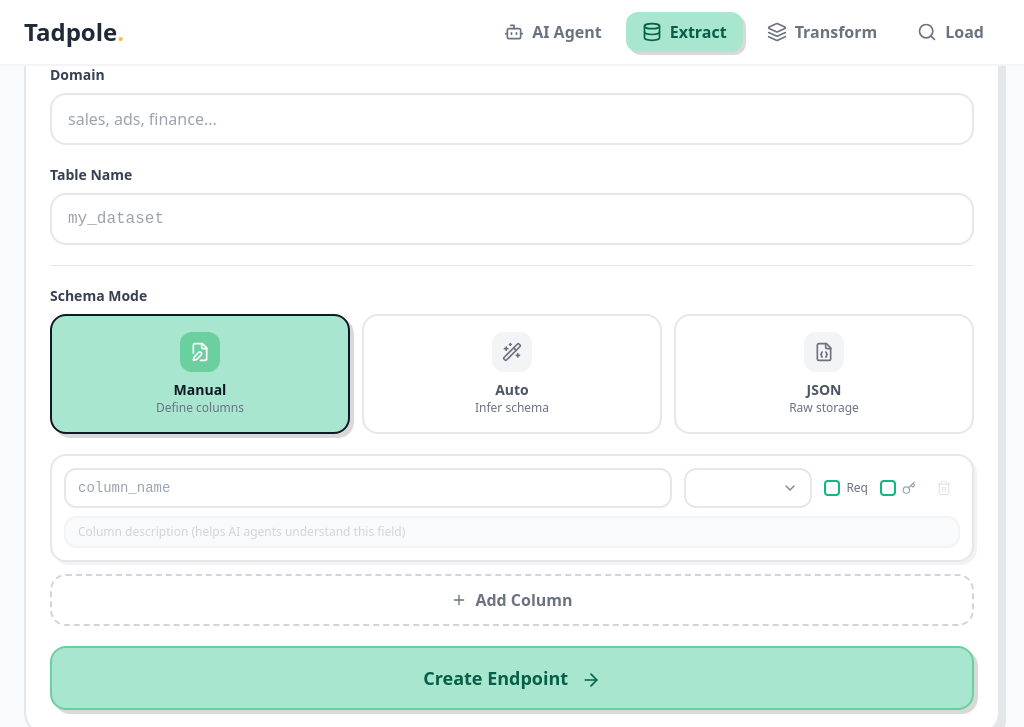
Scenario: Endpoint Creation Flow › shows validation error when domain is empty
The image size is (1024, 727).
(page scrolled)
Click the button "Create Endpoint".
click(512, 678)  # box [50, 646, 974, 710]
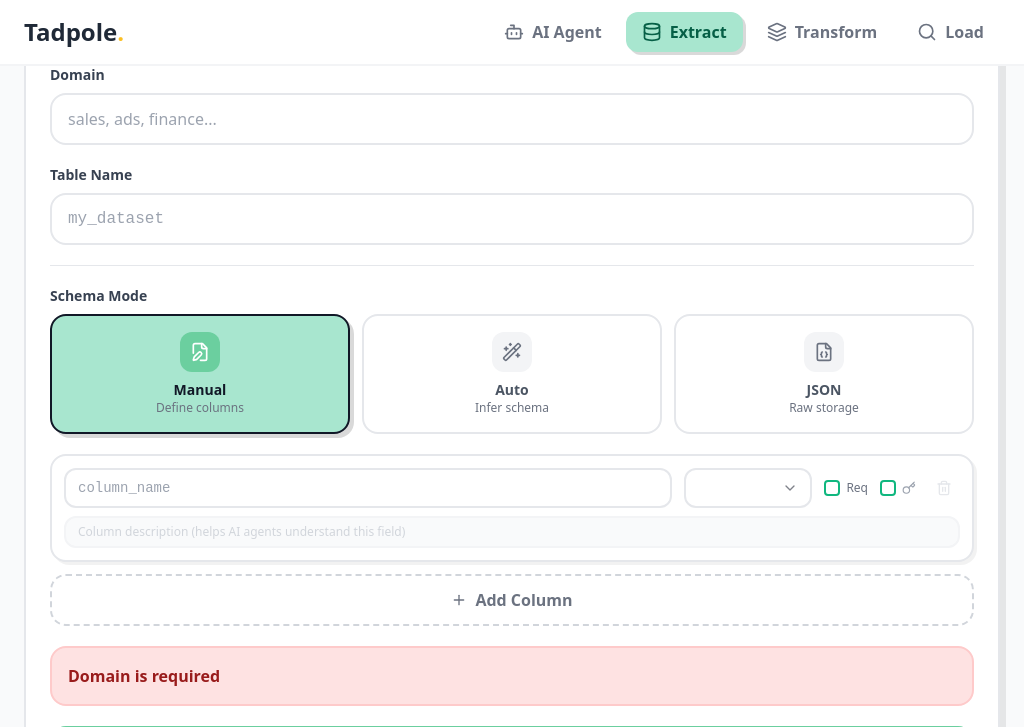
Expected: the text "Domain is required" is shown, [68, 665, 220, 687]
